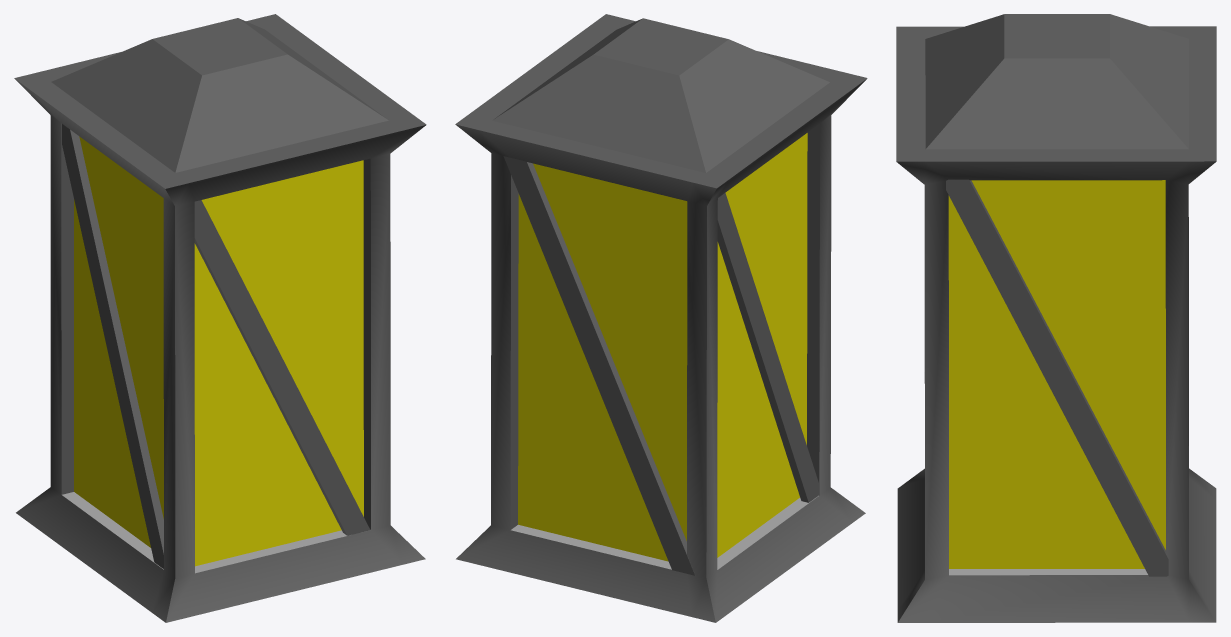
Rendered from Lantern.fbx.
3 renders of one model, left to right at view 1: azimuth 30°, elevation 25°; view 2: azimuth 150°, elevation 25°; view 3: azimuth 270°, elevation 25°, orthographic. The views are drawn at different scales.
Parts seen in each view (by area): view 1: pCube6; view 2: pCube6; view 3: pCube6.
Part boxes in pixels (box(x1,y1,x2,y2)): pCube6: box(14, 14, 426, 622); pCube6: box(455, 14, 867, 622); pCube6: box(896, 14, 1216, 622).
Size of the model in its own units: 1.21 by 2.17 by 1.21.
